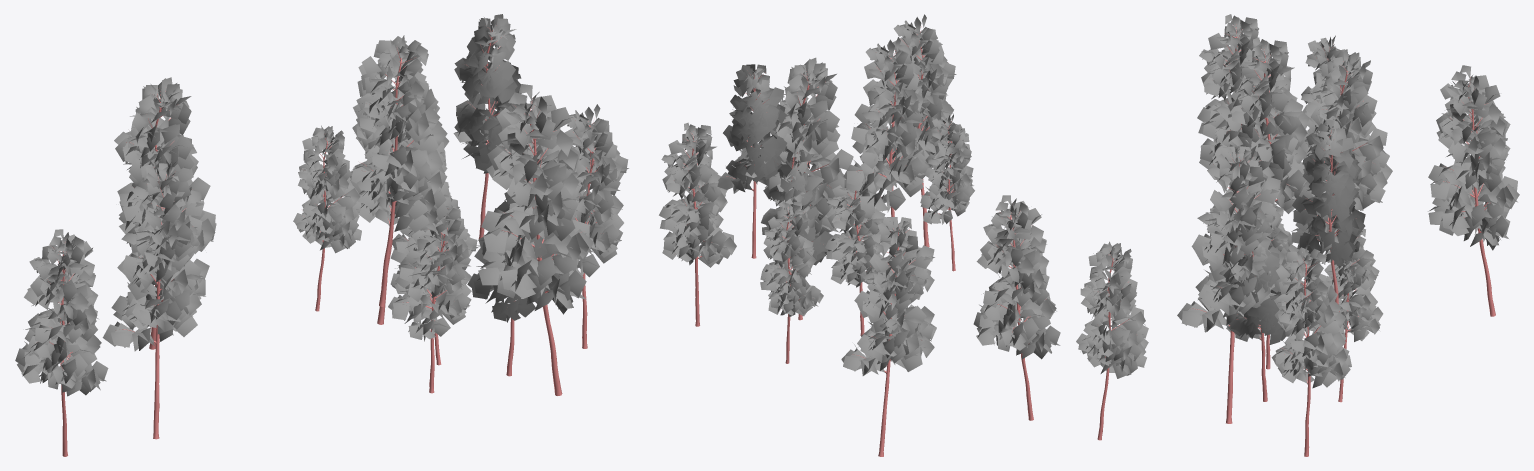
Rendered from Woods_Dawn_Trees_10.gltf.
The picture shows the model from 3 angles, left to right: view 1: azimuth 30°, elevation 25°; view 2: azimuth 150°, elevation 25°; view 3: azimuth 270°, elevation 25°; orthographic projection. The views are drawn at different scales.
Parts seen in each view (by area): view 1: Woods_Dawn_Trees_10; view 2: Woods_Dawn_Trees_10; view 3: Woods_Dawn_Trees_10.
Part boxes in pixels (x1,y1,x2,y2): Woods_Dawn_Trees_10: [15, 14, 628, 456]; Woods_Dawn_Trees_10: [659, 14, 1148, 456]; Woods_Dawn_Trees_10: [1177, 14, 1519, 456].
Bounding box in the file's own units: 201 × 129 × 117.
